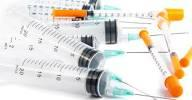Syringe: (0, 56, 174, 99), (2, 13, 103, 67), (139, 30, 182, 96), (52, 18, 161, 44), (52, 18, 153, 43), (157, 9, 183, 78), (22, 0, 99, 21), (52, 9, 158, 18), (103, 49, 148, 57), (180, 47, 191, 66)
